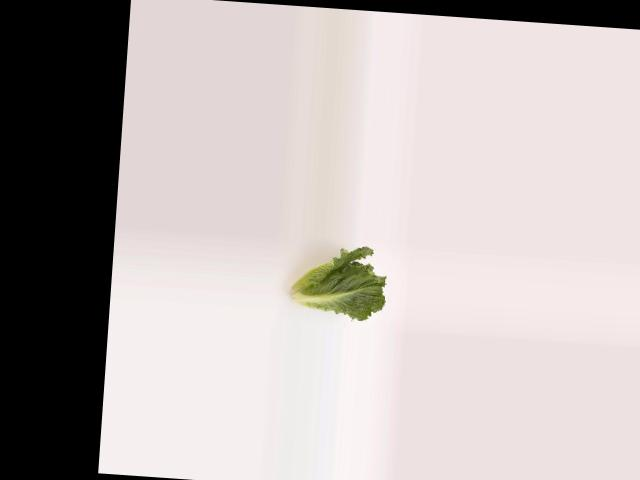lettuce: (277, 244, 391, 324)
